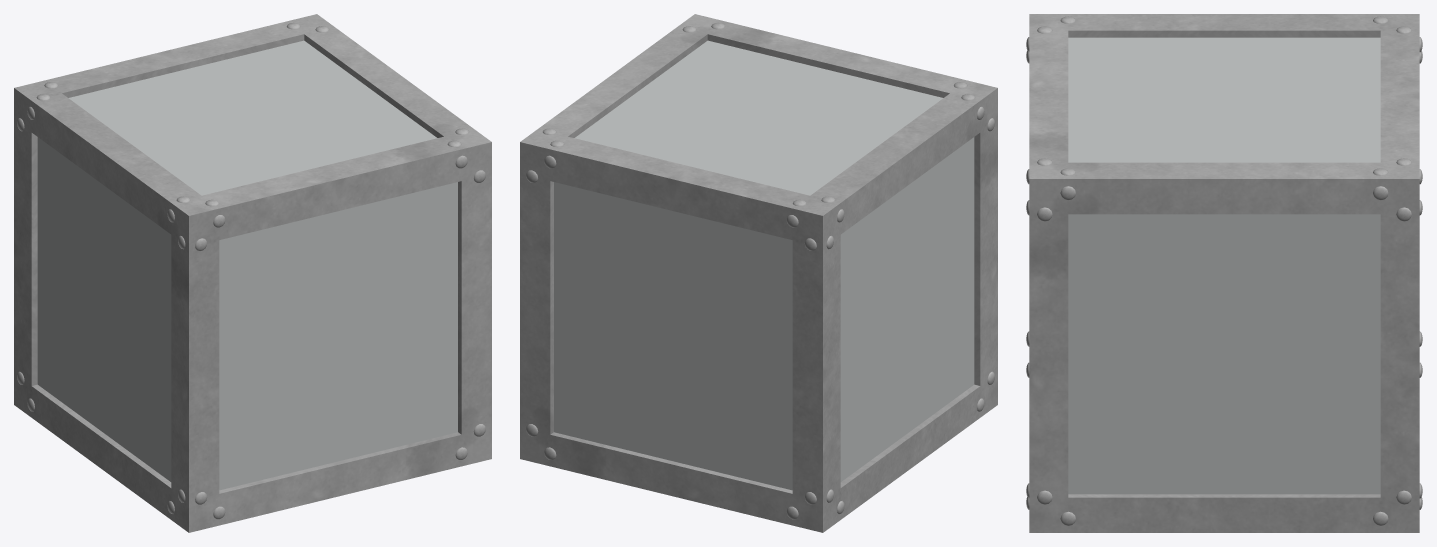
3 views of the same model, side by side, from view 1: azimuth 30°, elevation 25°; view 2: azimuth 150°, elevation 25°; view 3: azimuth 270°, elevation 25° (orthographic). The views are drawn at different scales.
Visible parts, largest first — view 1: SM_Box_03; view 2: SM_Box_03; view 3: SM_Box_03.
Boxes of the visible parts, bbox=[...] form: SM_Box_03: bbox=[14, 14, 491, 532]; SM_Box_03: bbox=[520, 14, 997, 532]; SM_Box_03: bbox=[1026, 14, 1422, 532].
Size of the model in its own units: 50.73 by 50.73 by 50.73.
